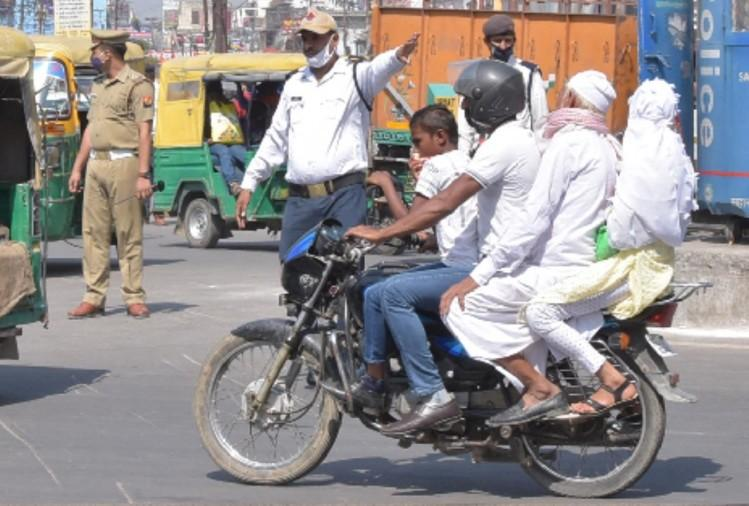helmet: (446, 56, 548, 143)
nohelmet: (630, 73, 694, 148), (556, 62, 622, 134), (400, 105, 471, 169)
